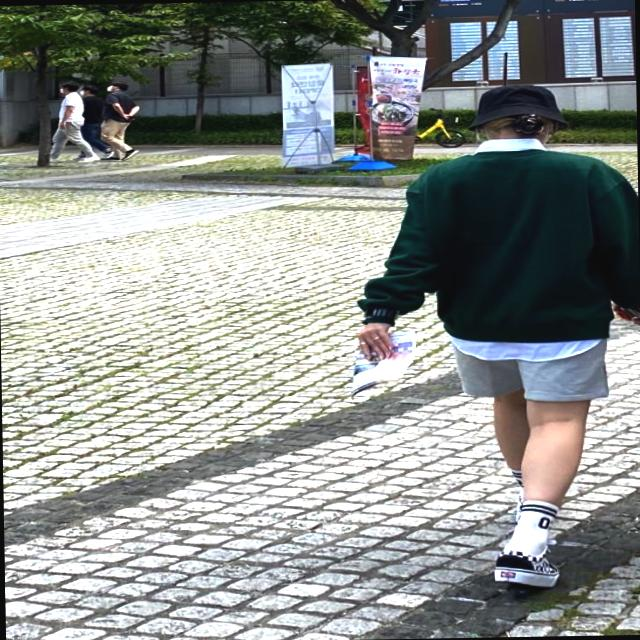mtm: (353, 149, 640, 349)
shortpants: (446, 343, 606, 411)
